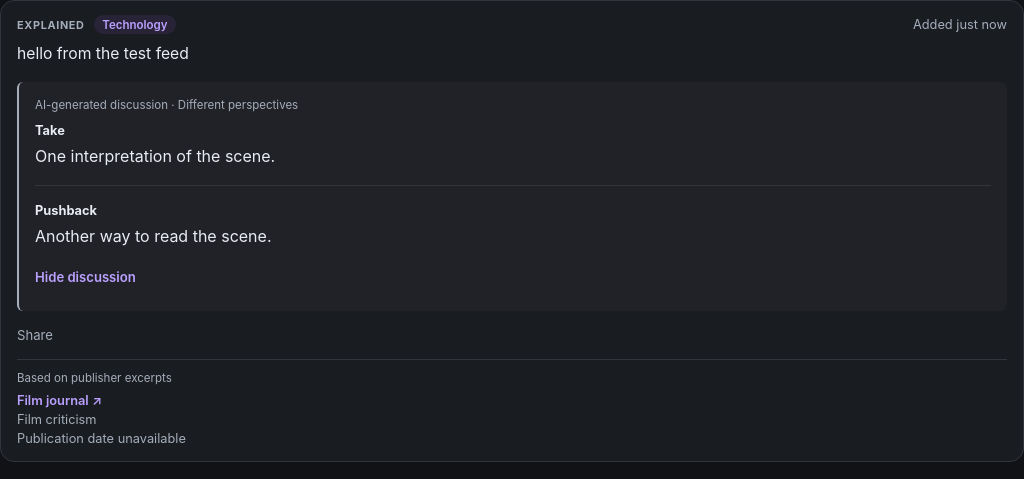
Test case: opens generated discussion by default while respecting spoiler protection (false)
Expected: the text "Publication date unavailable" is shown, [17, 431, 186, 446]
Expected: the text "hello from the test feed" is shown, [17, 44, 189, 63]
Click the button "Hide discussion" at (85, 277), box [35, 259, 136, 295]
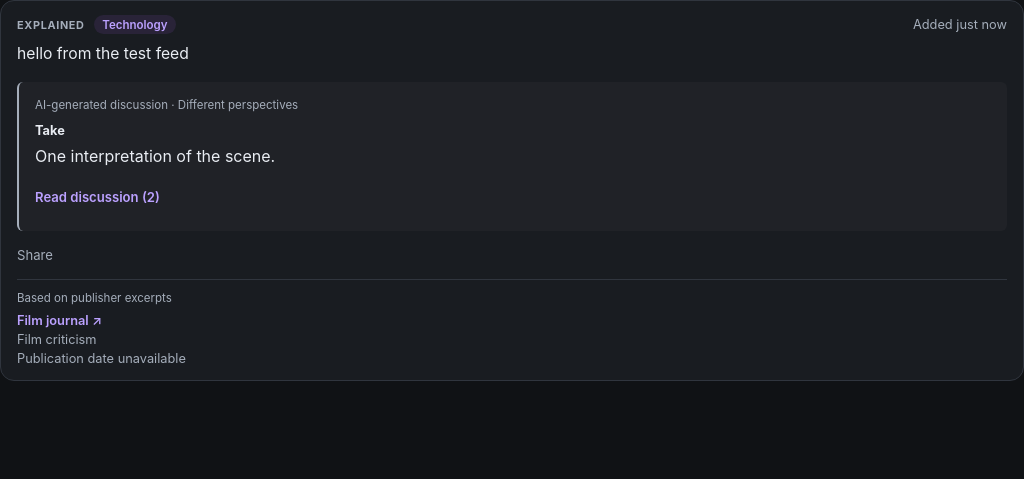
Expected: the text "Another way to read the scene." is gone
Click the button "Read discussion (2)" at (97, 197), box [35, 179, 160, 215]
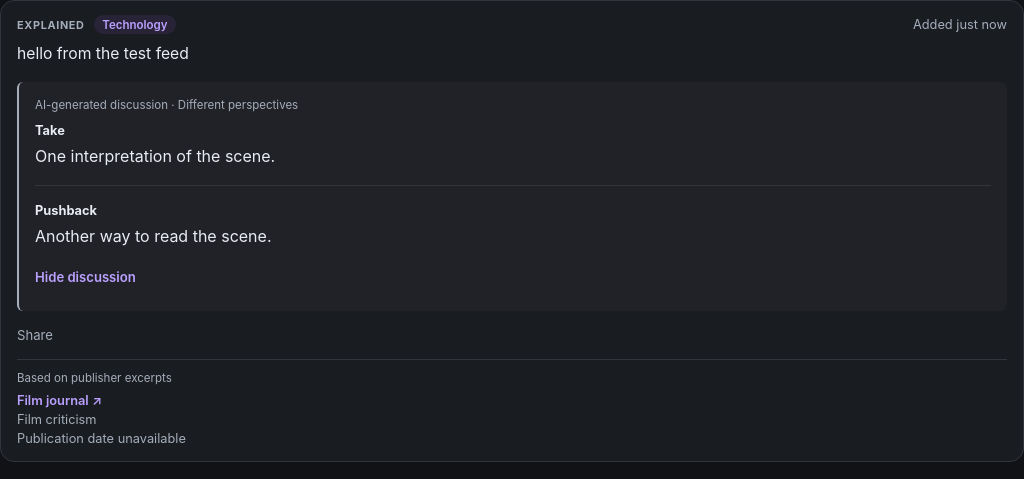
Expected: the text "Another way to read the scene." is shown, [35, 226, 272, 246]
